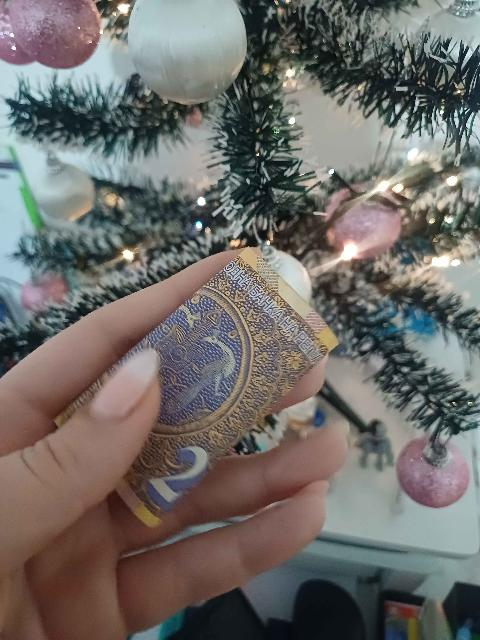2000_note: (118, 249, 336, 526)
